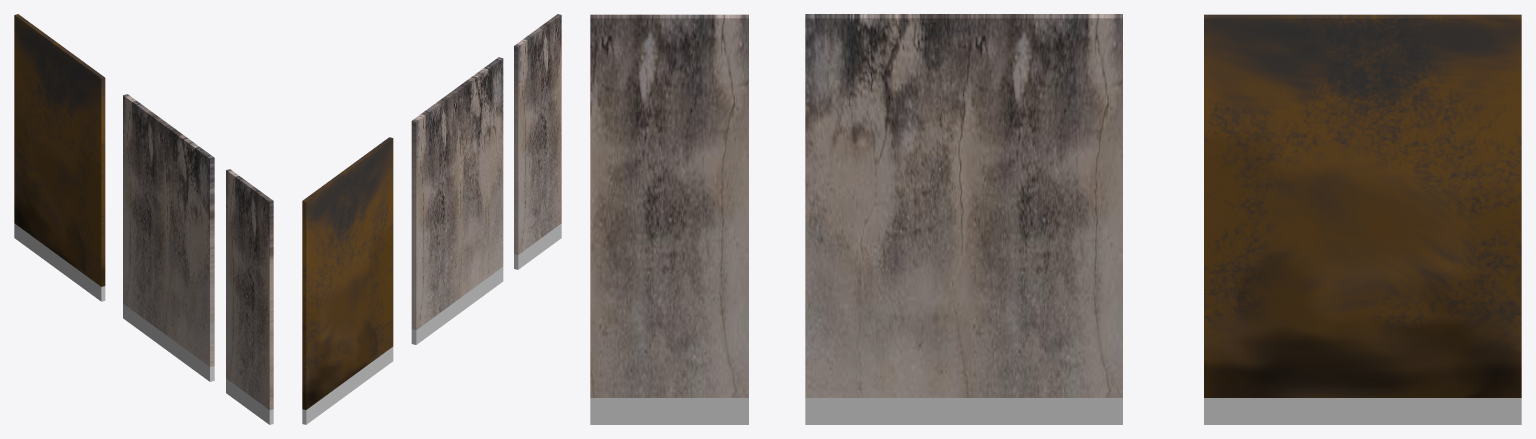
File: Nivel4_ModularDoble.fbx
The picture shows the model from 3 angles, left to right: view 1: azimuth 30°, elevation 25°; view 2: azimuth 150°, elevation 25°; view 3: azimuth 270°, elevation 25°; orthographic projection. The views are drawn at different scales.
Visible parts, largest first — view 1: DoblePared, DobleMorron, Doble1/2; view 2: DoblePared, DobleMorron, Doble1/2; view 3: DobleMorron, DoblePared, Doble1/2.
Boxes of the visible parts, x1=… form: DoblePared: x1=123, y1=94, x2=214, y2=381; DobleMorron: x1=14, y1=14, x2=105, y2=301; Doble1/2: x1=226, y1=169, x2=273, y2=424; DoblePared: x1=411, y1=57, x2=503, y2=344; DobleMorron: x1=302, y1=137, x2=393, y2=424; Doble1/2: x1=514, y1=14, x2=561, y2=269; DobleMorron: x1=1204, y1=14, x2=1521, y2=424; DoblePared: x1=805, y1=14, x2=1122, y2=424; Doble1/2: x1=590, y1=14, x2=748, y2=424.
Bounding box in the file's own units: 12.82 × 581 × 1207.
3 materials, 2 textured.
